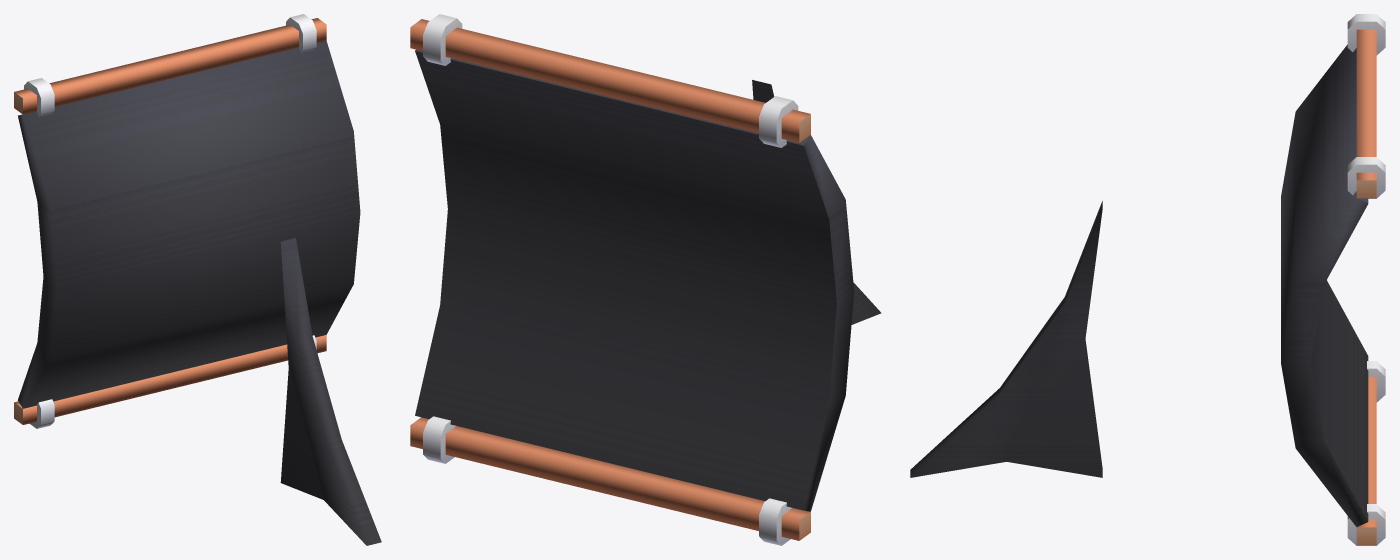
The model's file is sail_black.glb.
3 views of the same model, side by side, from view 1: azimuth 30°, elevation 25°; view 2: azimuth 150°, elevation 25°; view 3: azimuth 270°, elevation 25° (orthographic). The views are drawn at different scales.
Visible parts, largest first — view 1: sail-a_black; view 2: sail-a_black; view 3: sail-a_black.
Boxes of the visible parts, <box> form: sail-a_black: <box>14,14,381,545</box>; sail-a_black: <box>410,14,881,545</box>; sail-a_black: <box>910,14,1385,545</box>.
Bounding box in the file's own units: 4.4 × 4.76 × 5.33.
Materials: 1 (1 with a texture image).
